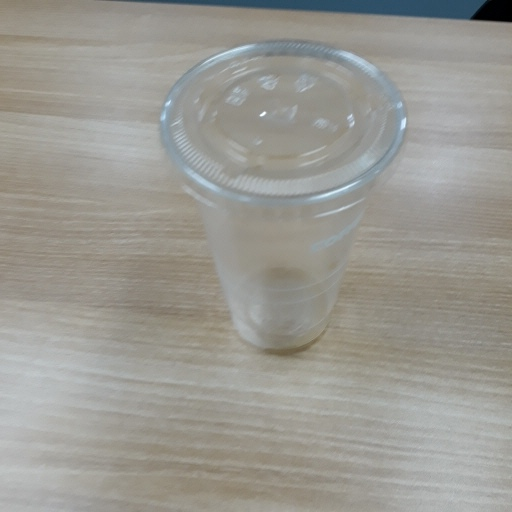Plastic_2: (155, 38, 409, 356)
